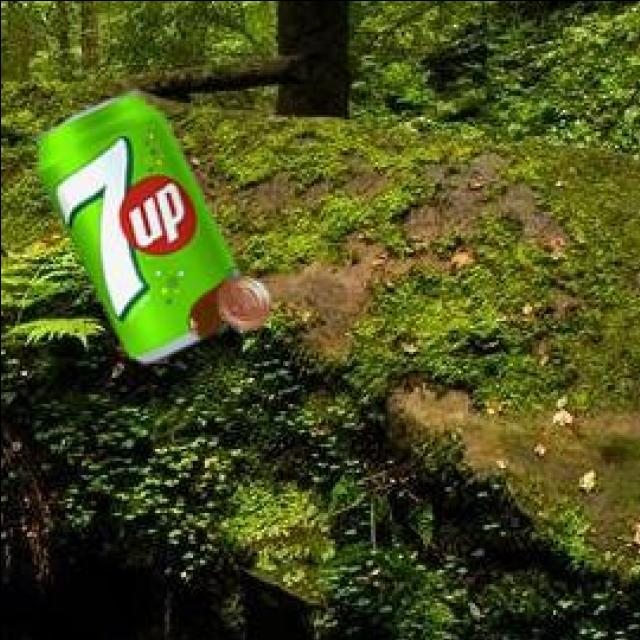logam: (32, 89, 236, 359), (184, 271, 267, 333)
